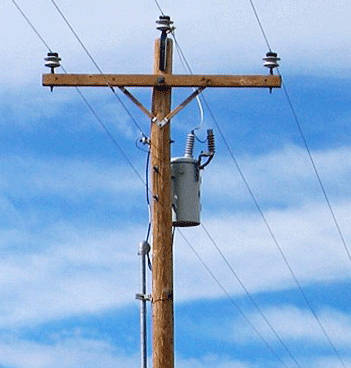utility_pole: (32, 7, 290, 254)
